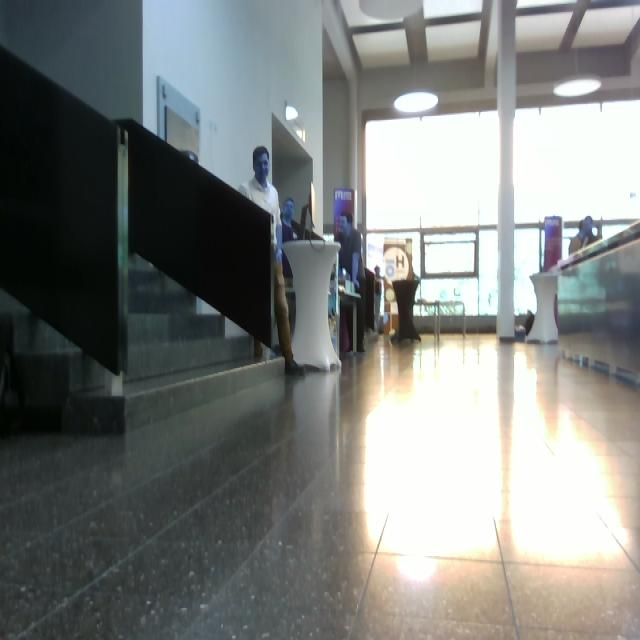door: (116, 117, 262, 382), (271, 113, 314, 356)
light bulb: (394, 20, 439, 114), (553, 49, 602, 98), (359, 1, 424, 22), (396, 554, 438, 584), (394, 91, 439, 115), (553, 76, 602, 98), (286, 105, 299, 121)
person: (238, 146, 306, 377), (337, 210, 367, 357)
pillar: (496, 1, 518, 341)
table: (281, 236, 345, 376)
tiled floor: (2, 327, 639, 639)
